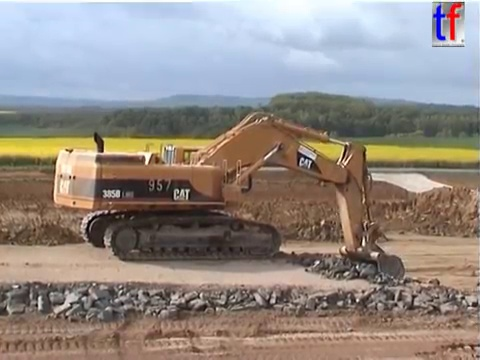excavator: (50, 109, 407, 307)
